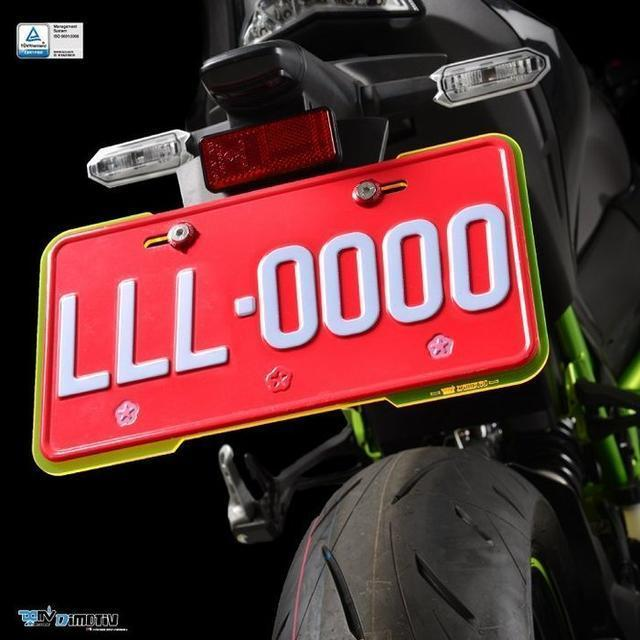plate: (53, 191, 522, 414)
